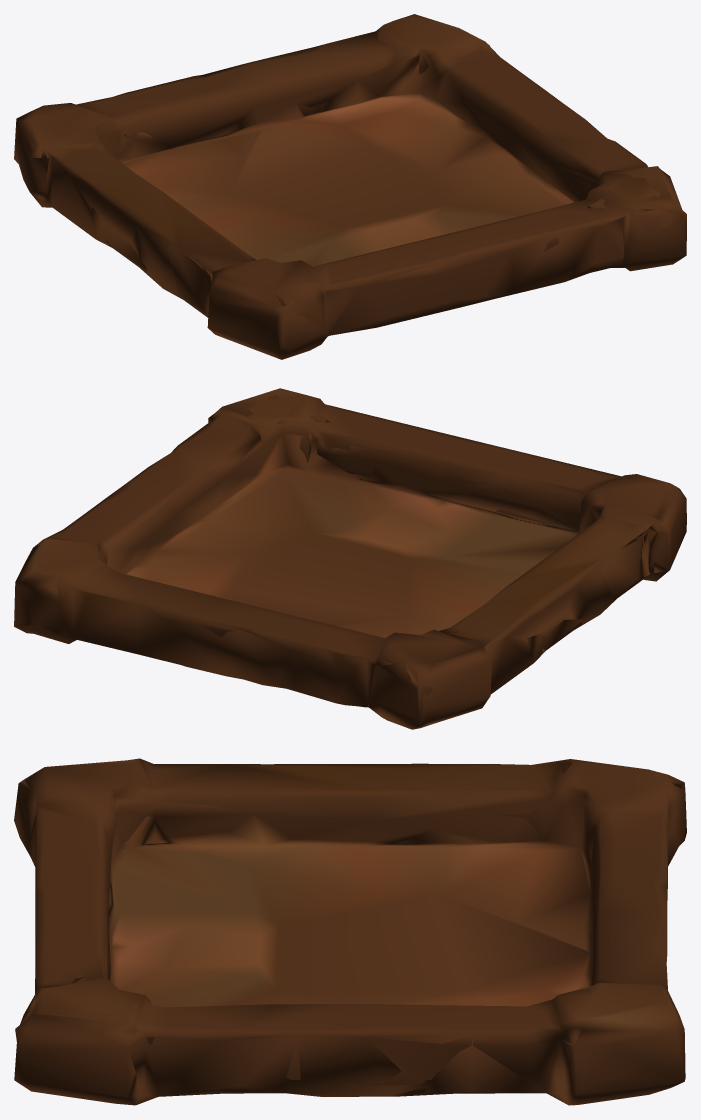
File: gen3d-raft-lod0.glb
3 renders of one model, top to bottom at view 1: azimuth 30°, elevation 25°; view 2: azimuth 150°, elevation 25°; view 3: azimuth 270°, elevation 25°, orthographic. The views are drawn at different scales.
Visible parts, largest first — view 1: part_0; view 2: part_0; view 3: part_0.
Boxes of the visible parts, bbox=[...] form: part_0: bbox=[14, 14, 686, 359]; part_0: bbox=[14, 388, 686, 729]; part_0: bbox=[14, 758, 686, 1105].
Size of the model in its own units: 7.29 by 0.9999 by 7.31.
